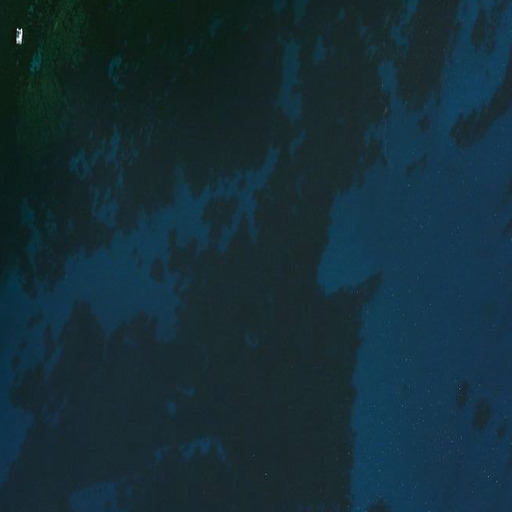ship: (13, 25, 25, 47)
